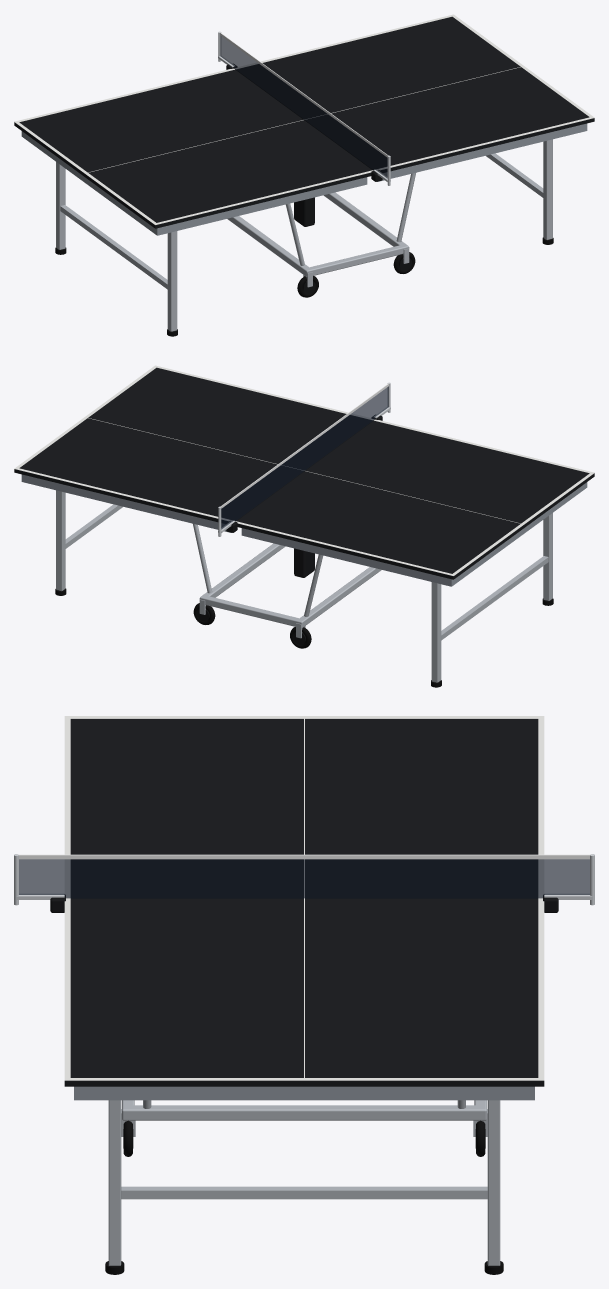
The model's file is platte-indoor-schwarz.glb.
3 views of the same model, one above another, from view 1: azimuth 30°, elevation 25°; view 2: azimuth 150°, elevation 25°; view 3: azimuth 270°, elevation 25° (orthographic). The views are drawn at different scales.
Parts seen in each view (by area): view 1: Platte (×2), Netz, Beine (×2), Hälfte A, Fahrwerk, Hälfte B, Tischtennisplatte; view 2: Platte (×2), Netz, Beine (×2), Hälfte A, Fahrwerk, Hälfte B, Tischtennisplatte; view 3: Platte (×2), Netz, Hälfte B, Beine, Fahrwerk, Hälfte A.
Boxes of the visible parts, <box> form: Platte (×2): <box>14,16,594,228</box>; Netz: <box>218,31,390,185</box>; Beine (×2): <box>55,139,553,336</box>; Hälfte A: <box>14,68,373,235</box>; Fahrwerk: <box>227,192,415,297</box>; Hälfte B: <box>235,14,594,181</box>; Tischtennisplatte: <box>285,173,415,265</box>; Platte (×2): <box>14,367,594,579</box>; Netz: <box>218,382,390,536</box>; Beine (×2): <box>55,490,553,687</box>; Hälfte A: <box>235,419,594,586</box>; Fahrwerk: <box>193,543,381,648</box>; Hälfte B: <box>14,365,373,532</box>; Tischtennisplatte: <box>193,524,323,616</box>; Platte (×2): <box>64,719,544,1086</box>; Netz: <box>14,854,594,912</box>; Hälfte B: <box>64,898,544,1100</box>; Beine: <box>105,1100,503,1274</box>; Fahrwerk: <box>121,1100,487,1156</box>; Hälfte A: <box>64,716,544,897</box>.
Size of the model in its own units: 2.74 by 0.9125 by 1.85.
